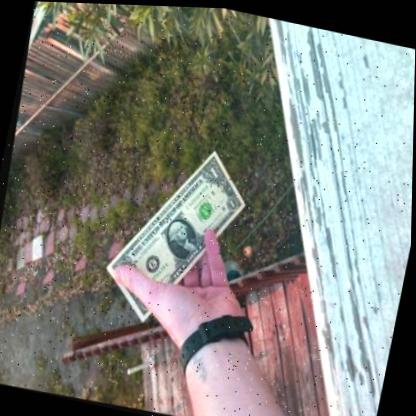one-front: (104, 149, 245, 321)
